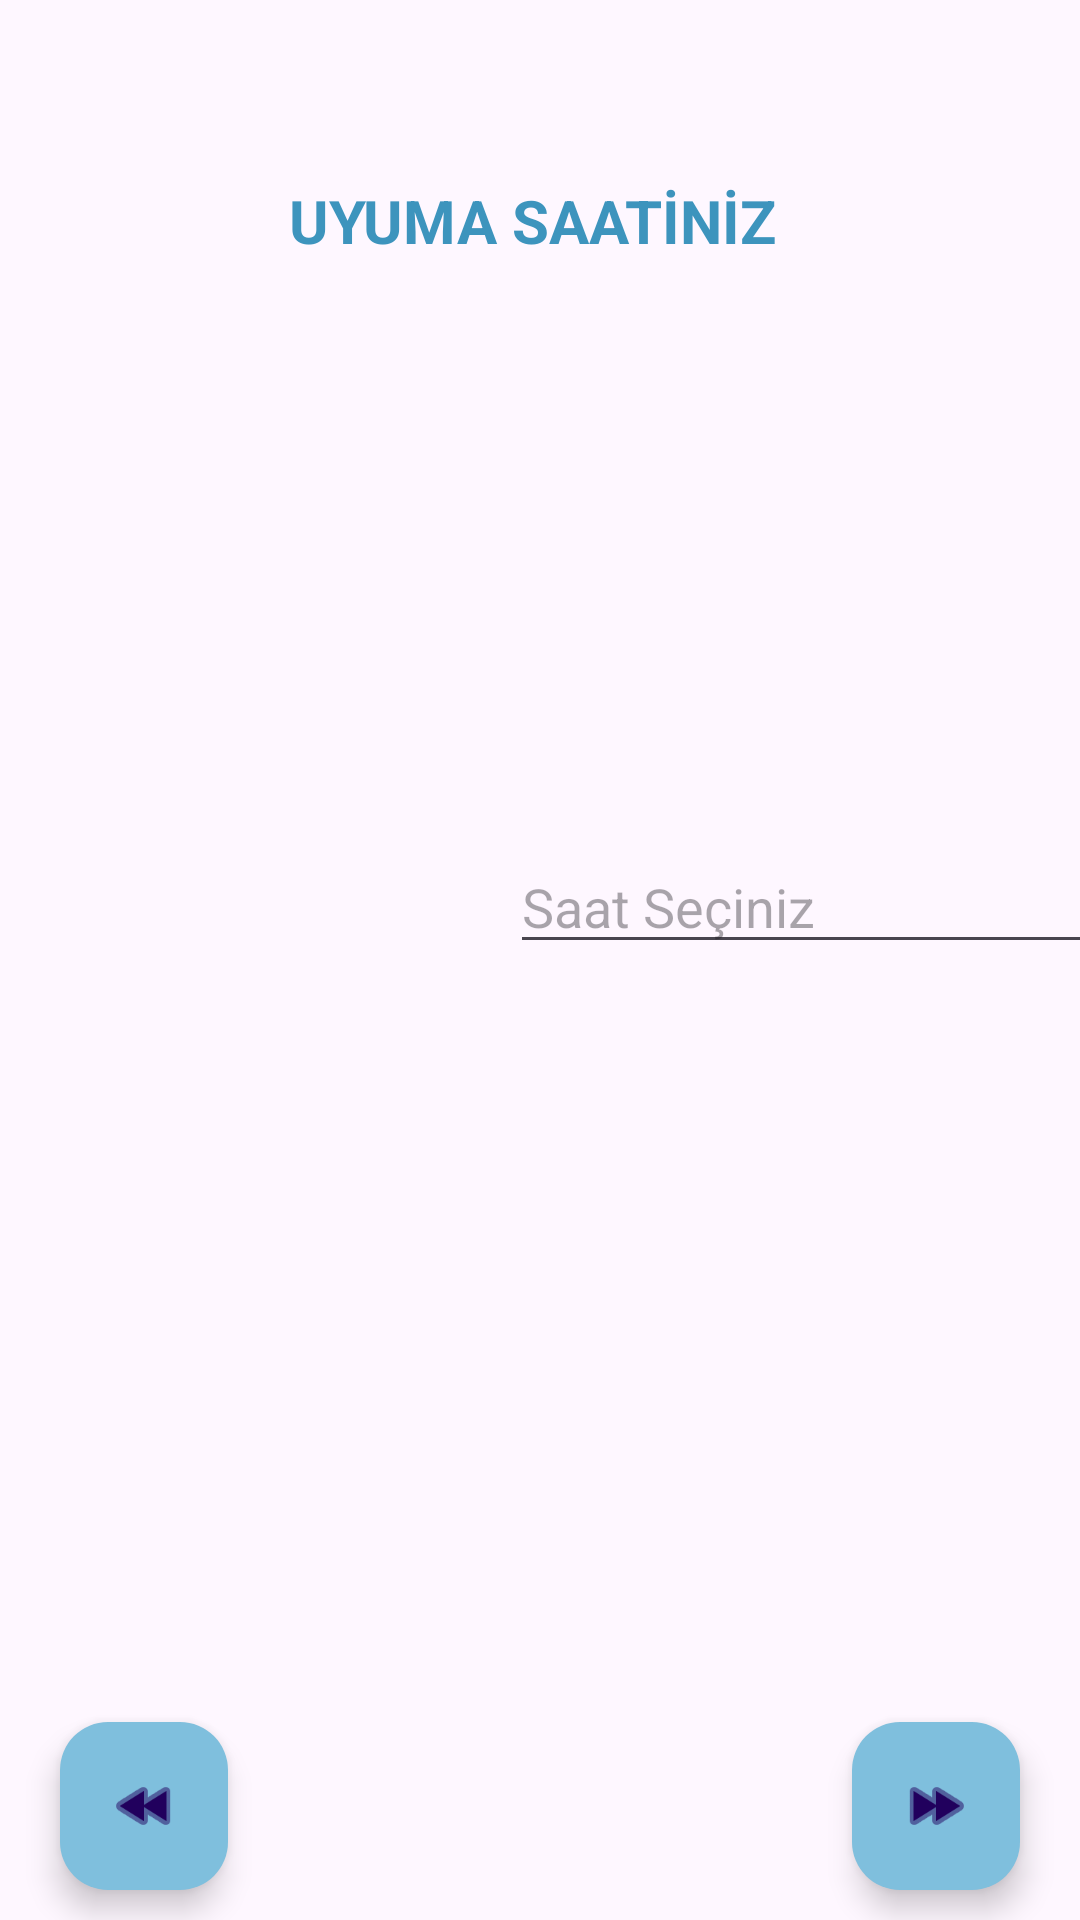

Icons on this 1080x1920 Android screen, each with its box as (x1, y1, x2, y2):
rew: (60, 1722, 228, 1890)
